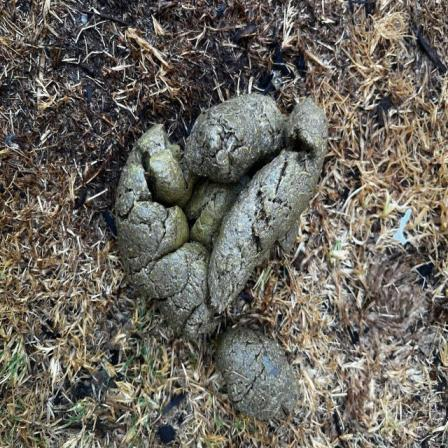dog-poop: (103, 91, 348, 428)
